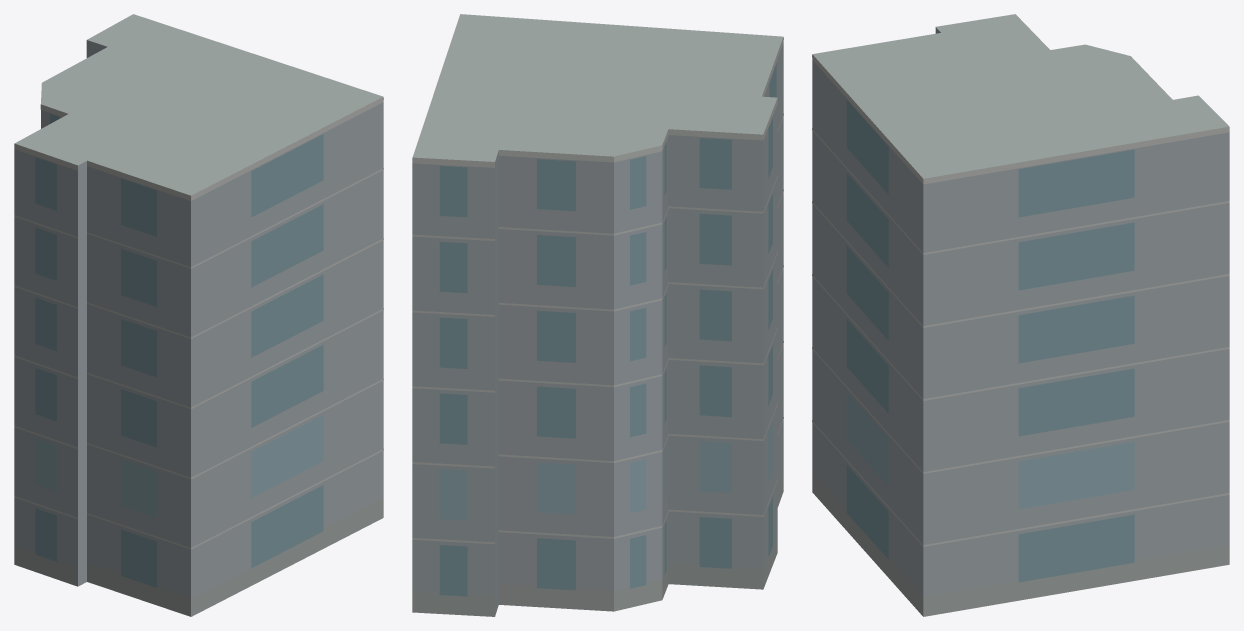
File: survey-upis-32672513.glb
The picture shows the model from 3 angles, left to right: view 1: azimuth 30°, elevation 25°; view 2: azimuth 150°, elevation 25°; view 3: azimuth 270°, elevation 25°; orthographic projection. The views are drawn at different scales.
Parts seen in each view (by area): view 1: survey-upis-32672513.tmp; view 2: survey-upis-32672513.tmp; view 3: survey-upis-32672513.tmp.
Part boxes in pixels (<box>): survey-upis-32672513.tmp: <box>14,14,383,616</box>; survey-upis-32672513.tmp: <box>412,14,783,616</box>; survey-upis-32672513.tmp: <box>812,14,1229,616</box>.
Bounding box in the file's own units: 15.28 × 18.9 × 16.35.
